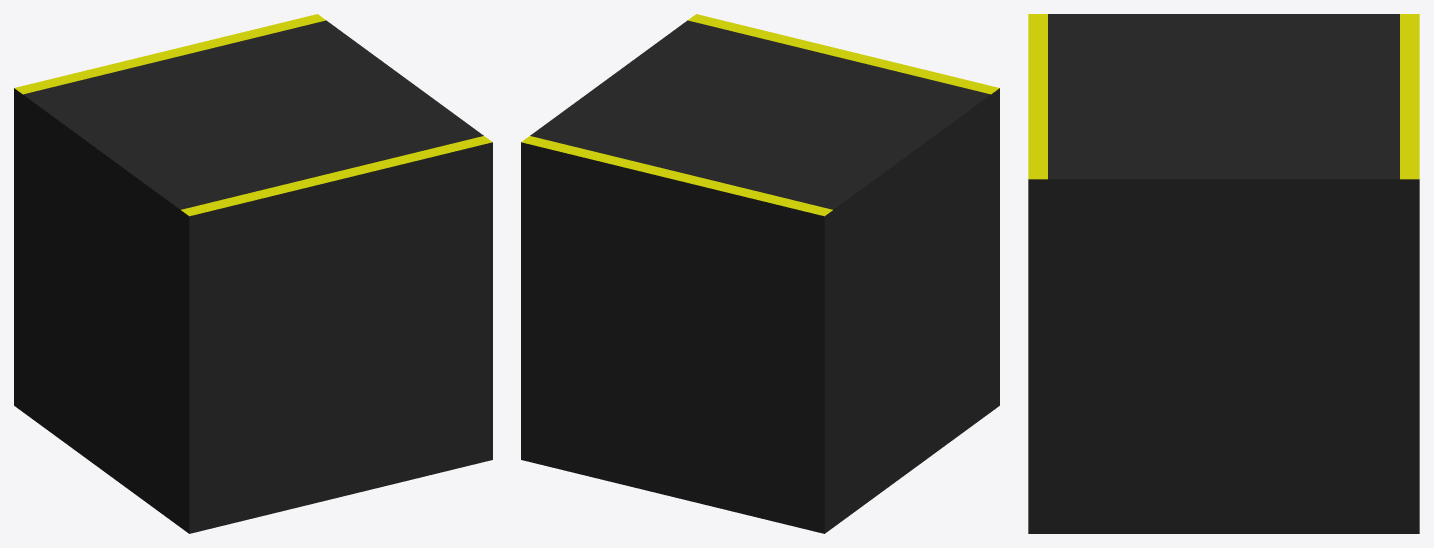
The model's file is road_tile.glb.
3 renders of one model, left to right at view 1: azimuth 30°, elevation 25°; view 2: azimuth 150°, elevation 25°; view 3: azimuth 270°, elevation 25°, orthographic. The views are drawn at different scales.
Parts seen in each view (by area): view 1: RoadTile; view 2: RoadTile; view 3: RoadTile.
Part boxes in pixels (bbox=[...]): RoadTile: bbox=[14, 14, 492, 533]; RoadTile: bbox=[521, 14, 999, 533]; RoadTile: bbox=[1028, 14, 1419, 533].
Size of the model in its own units: 2 by 2 by 2.
